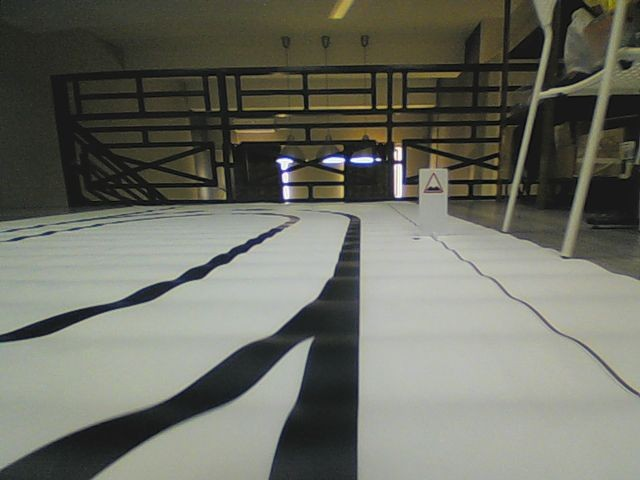Nerov: (423, 171, 444, 195)
